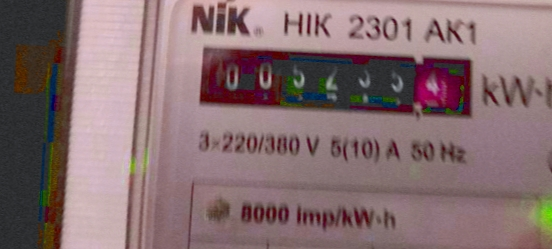0: (255, 55, 277, 89), (223, 57, 243, 89)
2: (321, 56, 344, 91)
3: (353, 56, 379, 90)
4: (422, 59, 446, 97)
5: (387, 56, 411, 94), (289, 55, 310, 89)
screen: (183, 26, 489, 130)
